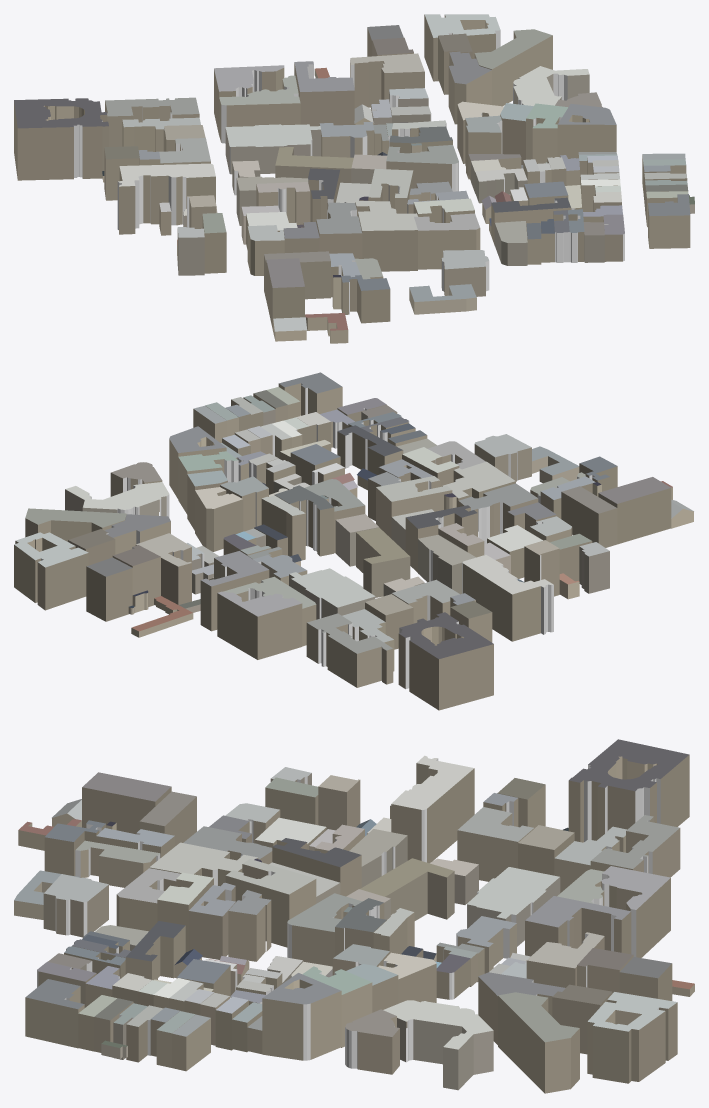
The picture shows the model from 3 angles, top to bottom: view 1: azimuth 30°, elevation 25°; view 2: azimuth 150°, elevation 25°; view 3: azimuth 270°, elevation 25°; orthographic projection. The views are drawn at different scales.
Parts seen in each view (by area): view 1: tuile; view 2: tuile; view 3: tuile.
Boxes of the visible parts, left/top/right/bottom form: tuile: left=14, top=14, right=694, bottom=343; tuile: left=14, top=372, right=693, bottom=710; tuile: left=14, top=739, right=694, bottom=1093.
Bounding box in the file's own units: 287 × 31.22 × 281.
